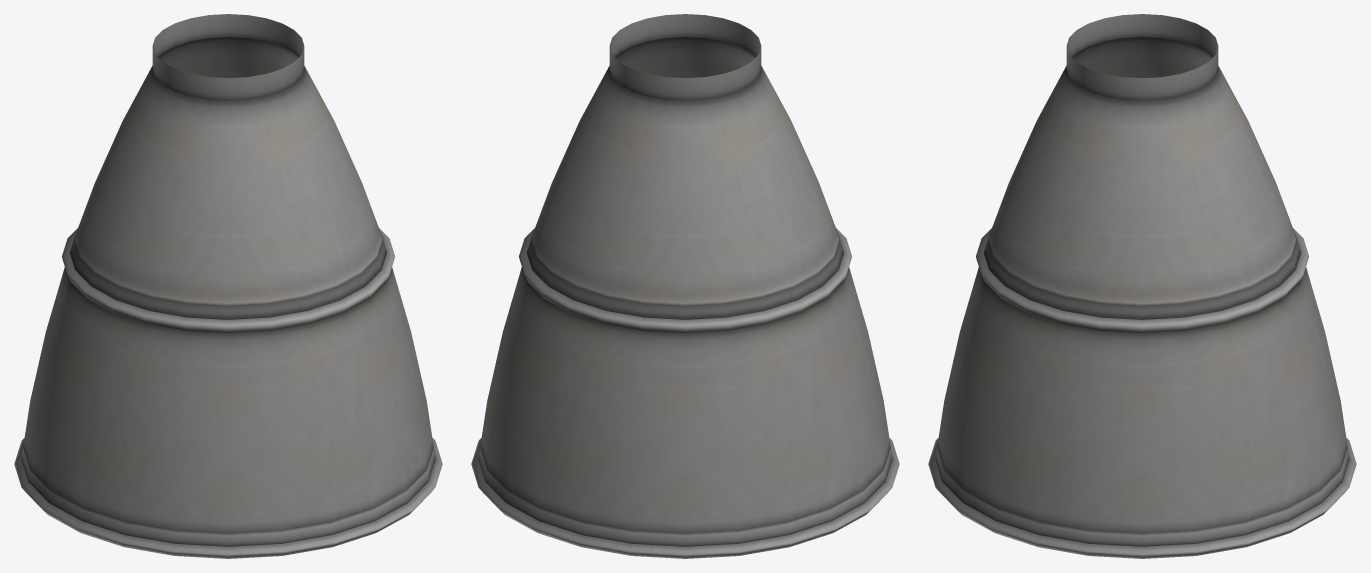
Rendered from HLV_1_Engine_1_Nozzle.obj.
3 renders of one model, left to right at view 1: azimuth 30°, elevation 25°; view 2: azimuth 150°, elevation 25°; view 3: azimuth 270°, elevation 25°, orthographic.
Parts seen in each view (by area): view 1: HLV_1_Engine_1_Nozzle; view 2: HLV_1_Engine_1_Nozzle; view 3: HLV_1_Engine_1_Nozzle.
Boxes of the visible parts, <box> form: HLV_1_Engine_1_Nozzle: <box>14,14,442,558</box>; HLV_1_Engine_1_Nozzle: <box>471,14,899,558</box>; HLV_1_Engine_1_Nozzle: <box>928,14,1356,558</box>.
Size of the model in its own units: 0.8461 by 0.925 by 0.8461.
